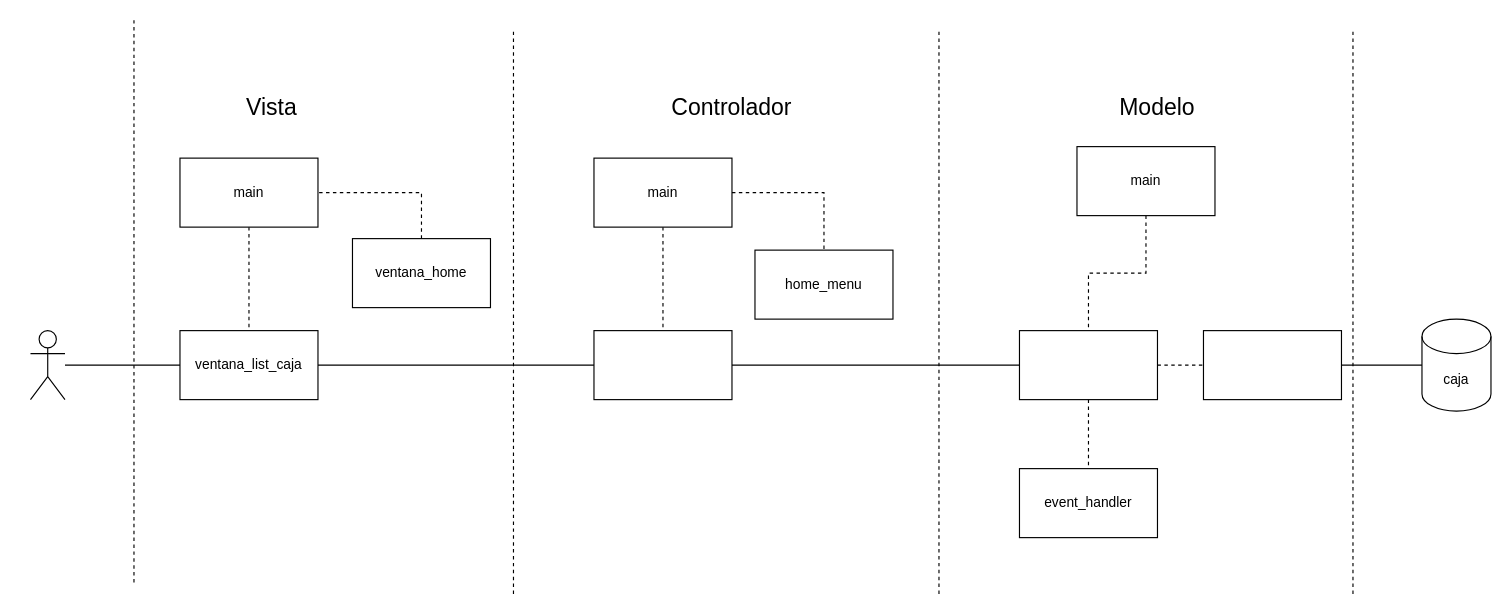
The diagram is 1511 pixels wide and 616 high, and some of its shapes have lost their labels. The shapes that lost their labels are listed below. From the top down, each one's centre as x and y in pixels, then its label:
[47,364]: Ejecutivo
[662,364]: list_caja
[1087,364]: gestor_cajas
[1271,364]: caja_DAO
